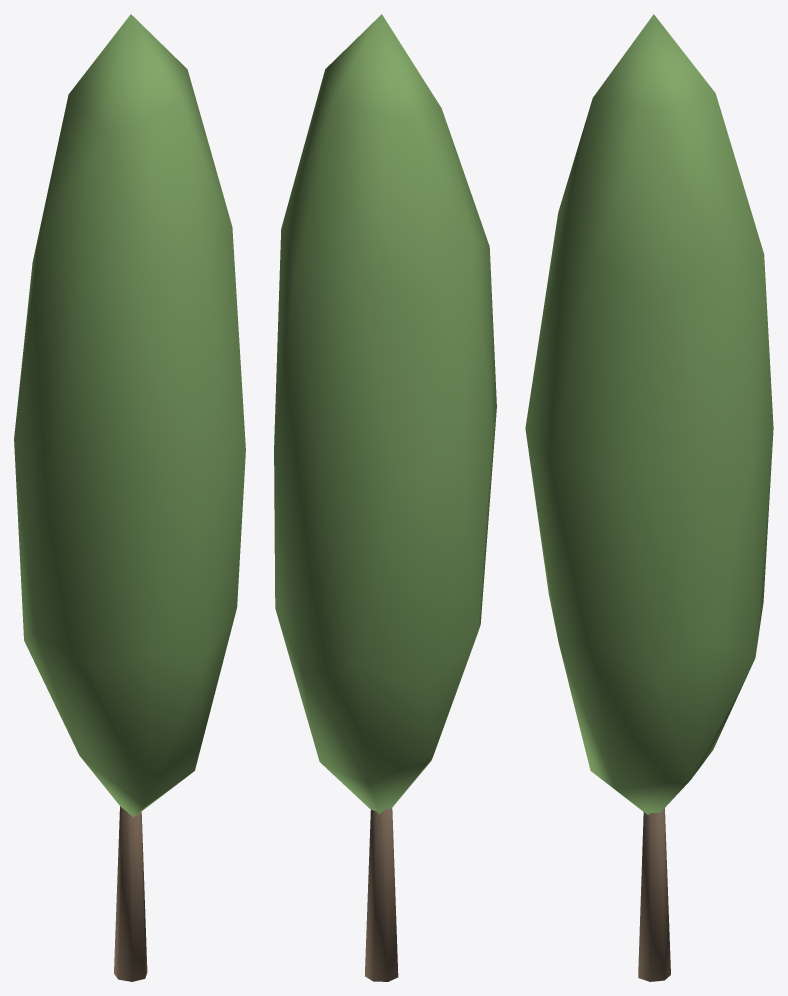
File: tree_poplar.glb
The picture shows the model from 3 angles, left to right: view 1: azimuth 30°, elevation 25°; view 2: azimuth 150°, elevation 25°; view 3: azimuth 270°, elevation 25°; orthographic projection.
Visible parts, largest first — view 1: tree_poplar; view 2: tree_poplar; view 3: tree_poplar.
Part boxes in pixels (x1,y1,x2,y2): tree_poplar: (14, 14, 245, 981); tree_poplar: (274, 14, 496, 981); tree_poplar: (525, 14, 773, 981).
Bounding box in the file's own units: 2.57 × 12.31 × 2.88.
